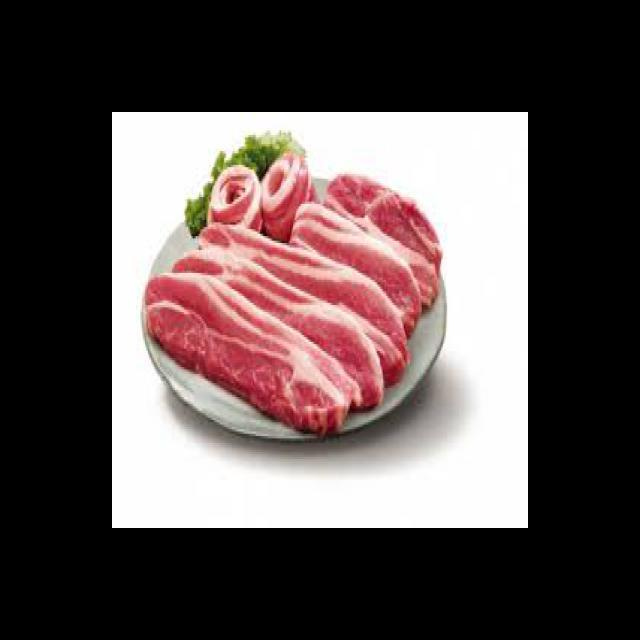pork: (157, 271, 346, 444), (200, 225, 400, 376), (278, 176, 440, 316)
